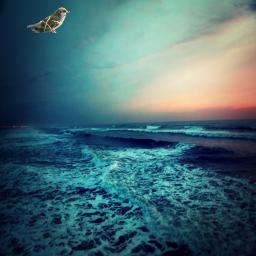Cuckoo: (27, 7, 70, 33)
